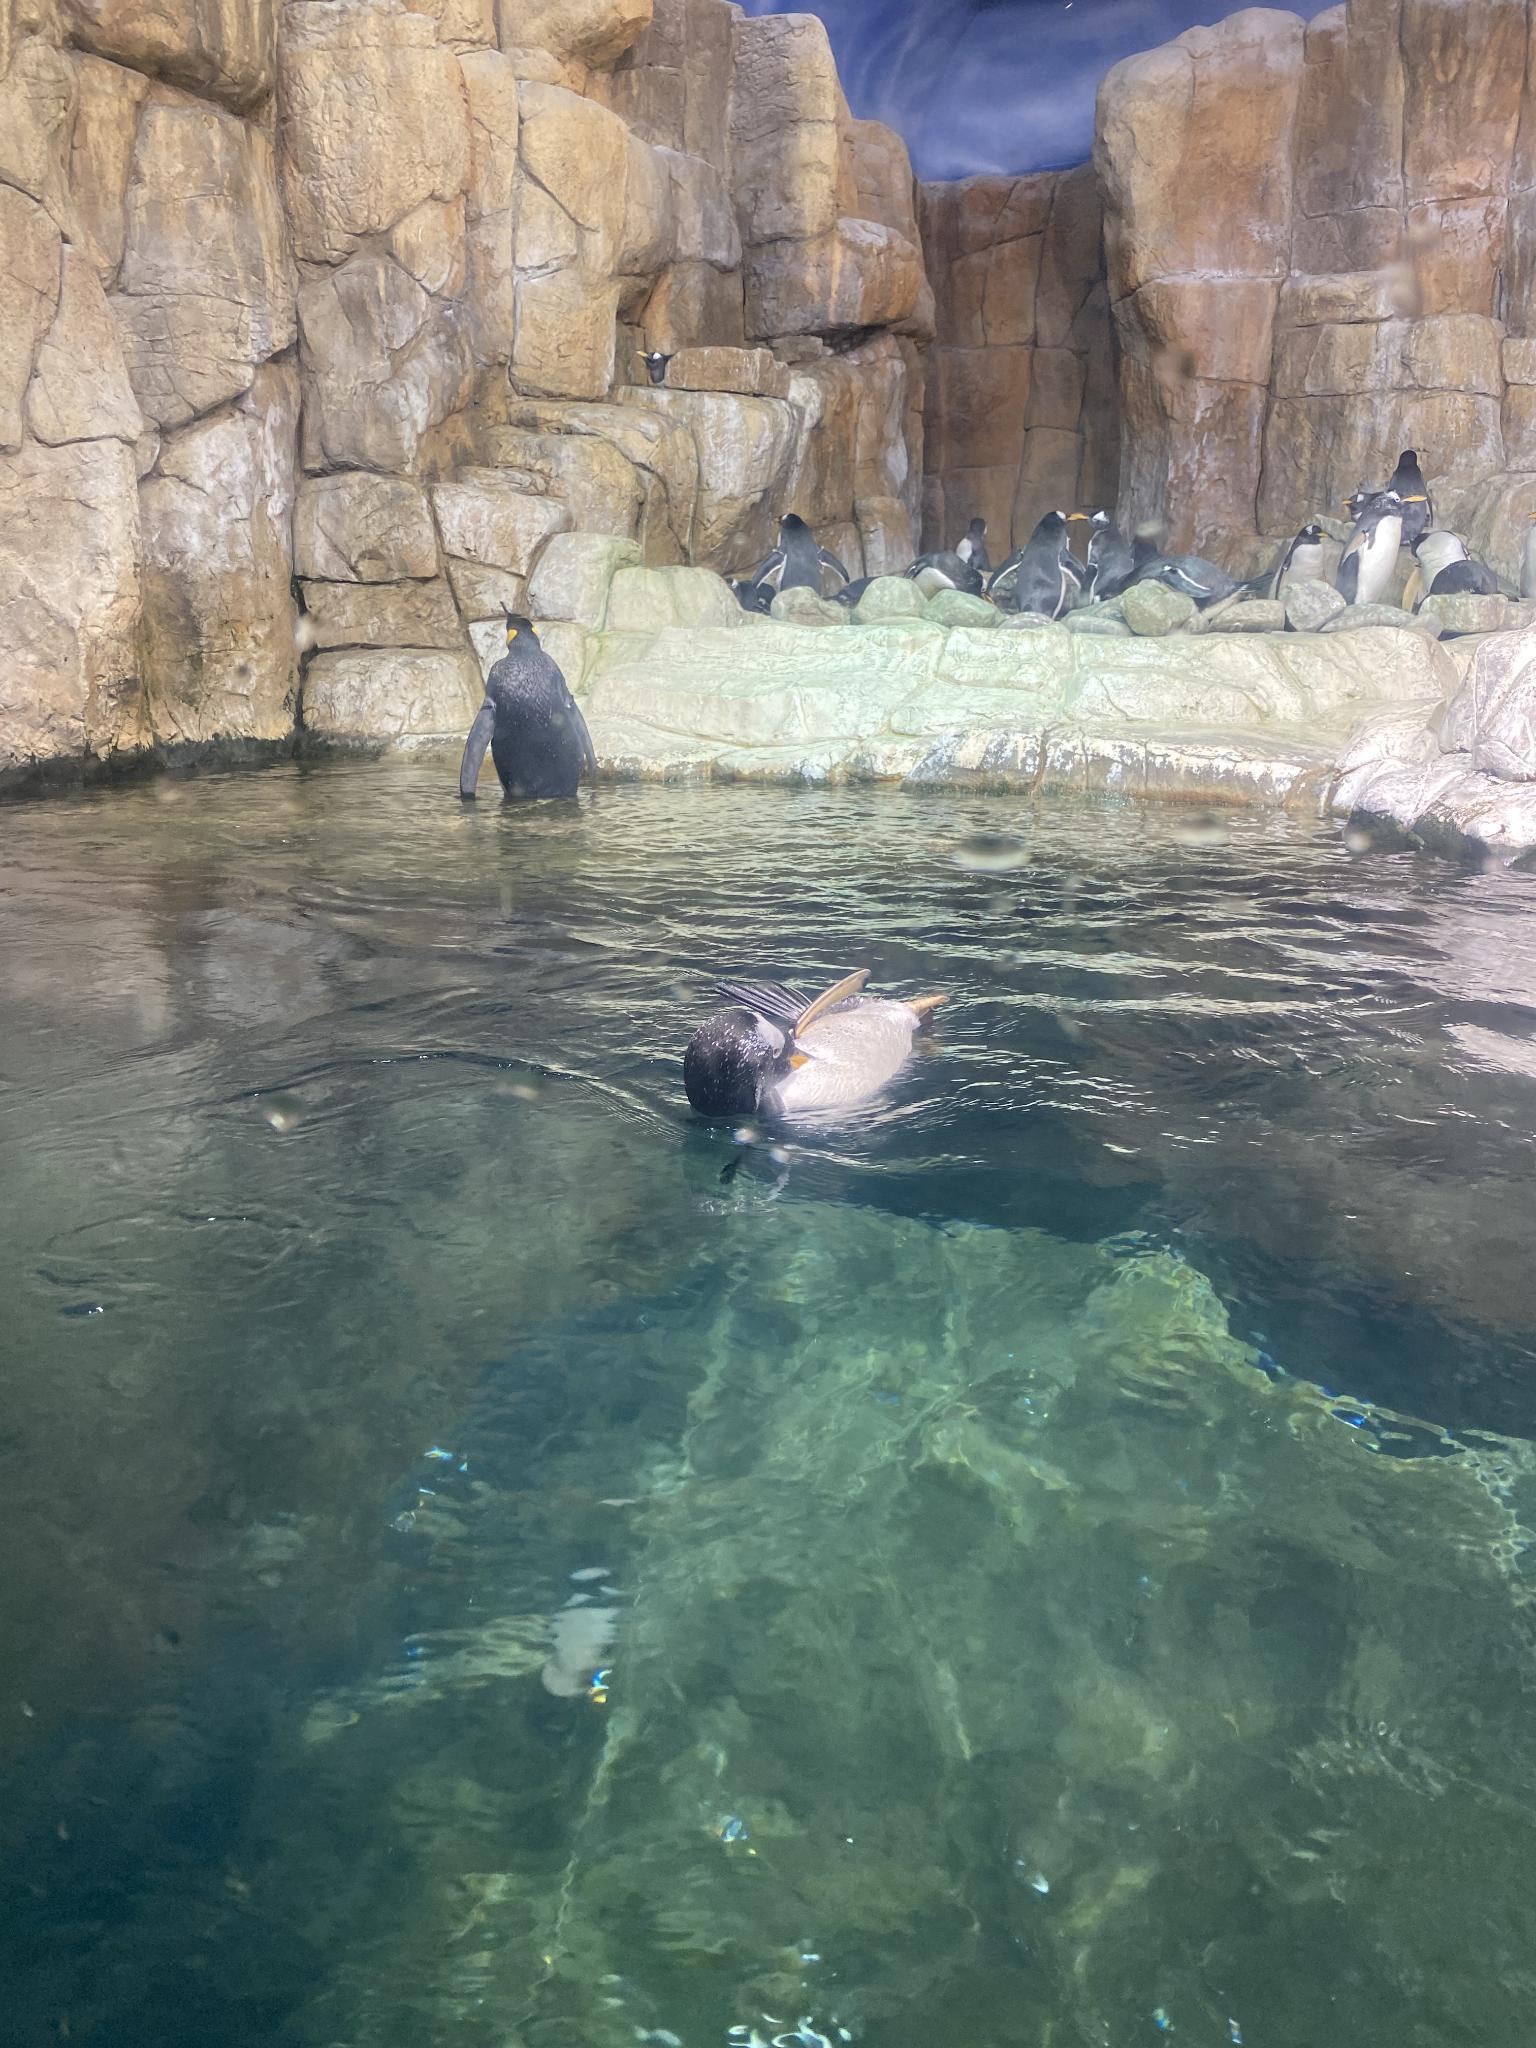penguin: (678, 968, 949, 1127), (453, 603, 603, 821), (749, 513, 849, 619), (1334, 490, 1426, 605), (1092, 555, 1271, 606), (994, 506, 1079, 614), (1402, 531, 1473, 613), (1071, 510, 1133, 603), (1386, 450, 1433, 543), (1275, 526, 1331, 600), (907, 552, 981, 589), (1430, 560, 1497, 597), (957, 518, 989, 576), (1342, 490, 1391, 522), (1518, 510, 1534, 597)
